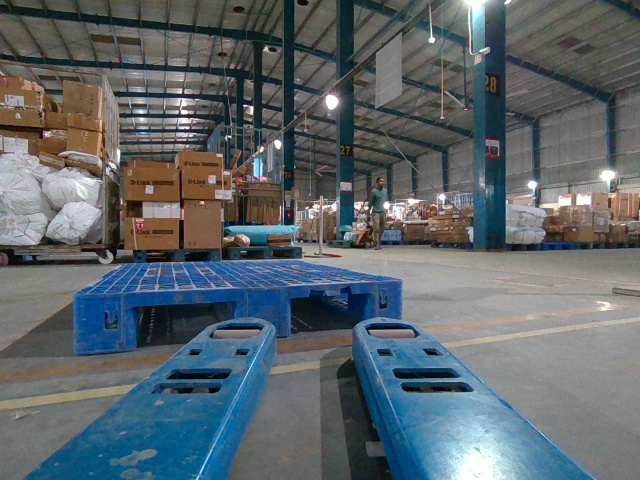block: (74, 292, 135, 354), (233, 286, 293, 337), (367, 281, 403, 321)
front: (73, 280, 402, 355)
hole pallet: (134, 302, 236, 347), (291, 295, 369, 335)
